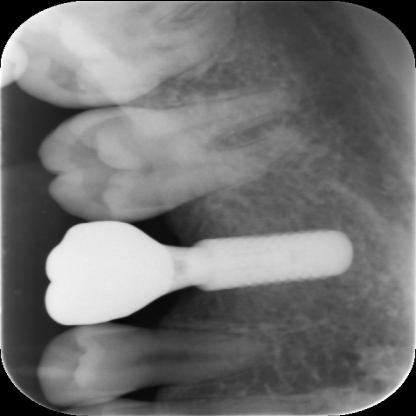ITI: (192, 230, 364, 286)
